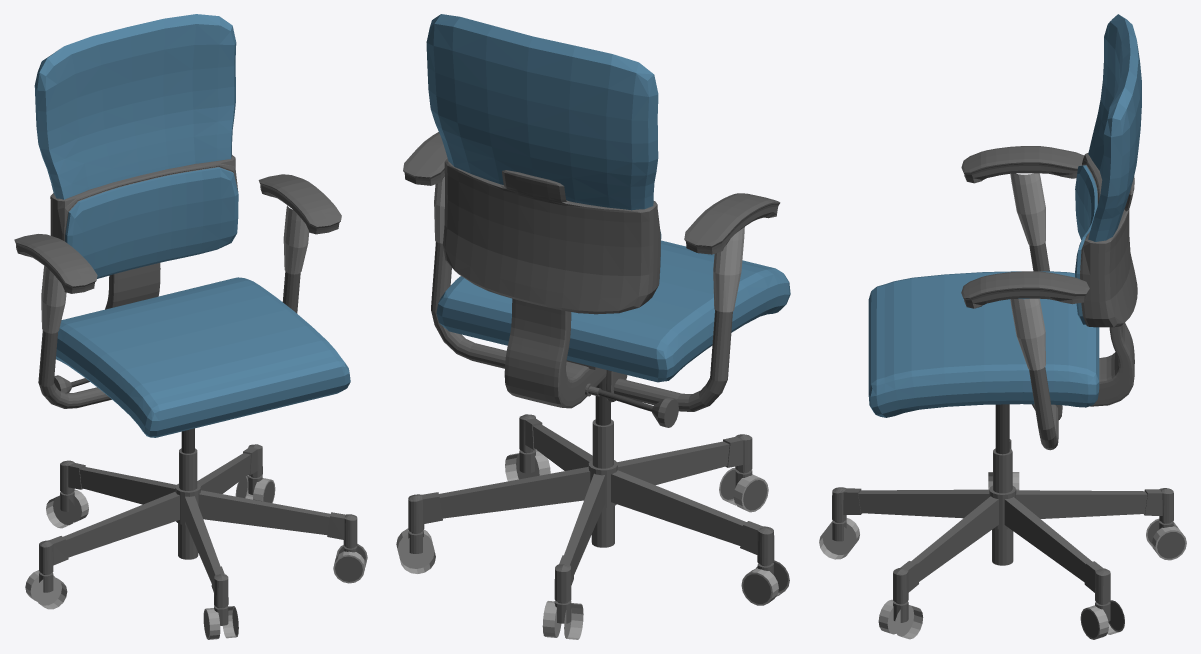
Rendered from sweethome3d-scopia-chair-46.glb.
3 renders of one model, left to right at view 1: azimuth 30°, elevation 25°; view 2: azimuth 150°, elevation 25°; view 3: azimuth 270°, elevation 25°, orthographic. The views are drawn at different scales.
Visible parts, largest first — view 1: sillaOfi_respaldo, sillaOfi_ruedas.0, sillaOfi_respaldo.001, sillaOfi_soporte.001_, sillaOfi_ruedas.001_C, sillaOfi_soporte..001; view 2: sillaOfi_respaldo, sillaOfi_respaldo.001, sillaOfi_ruedas.0, sillaOfi_soporte.001_, sillaOfi_ruedas.001_C, sillaOfi_soporte..001, sillaOfi_soporte.; view 3: sillaOfi_respaldo, sillaOfi_ruedas.0, sillaOfi_respaldo.001, sillaOfi_soporte.001_, sillaOfi_soporte..001, sillaOfi_ruedas.001_C, sillaOfi_soporte..
Boxes of the visible parts, <box> form: sillaOfi_respaldo: <box>34,14,350,437</box>; sillaOfi_ruedas.0: <box>39,444,365,637</box>; sillaOfi_respaldo.001: <box>14,155,341,309</box>; sillaOfi_soporte.001_: <box>38,271,300,559</box>; sillaOfi_ruedas.001_C: <box>25,475,367,639</box>; sillaOfi_soporte..001: <box>41,205,308,333</box>; sillaOfi_respaldo: <box>426,14,790,382</box>; sillaOfi_respaldo.001: <box>403,132,780,408</box>; sillaOfi_ruedas.0: <box>408,414,787,623</box>; sillaOfi_soporte.001_: <box>431,242,732,547</box>; sillaOfi_ruedas.001_C: <box>396,450,789,639</box>; sillaOfi_soporte..001: <box>434,176,744,312</box>; sillaOfi_soporte.: <box>595,377,653,425</box>; sillaOfi_respaldo: <box>868,14,1141,417</box>; sillaOfi_ruedas.0: <box>832,439,1185,638</box>; sillaOfi_respaldo.001: <box>961,146,1137,419</box>; sillaOfi_soporte.001_: <box>989,242,1058,565</box>; sillaOfi_soporte..001: <box>1010,173,1045,370</box>; sillaOfi_ruedas.001_C: <box>819,472,1186,639</box>; sillaOfi_soporte.: <box>995,404,1009,454</box>.
Size of the model in its own units: 0.7349 by 1.19 by 0.7591.
